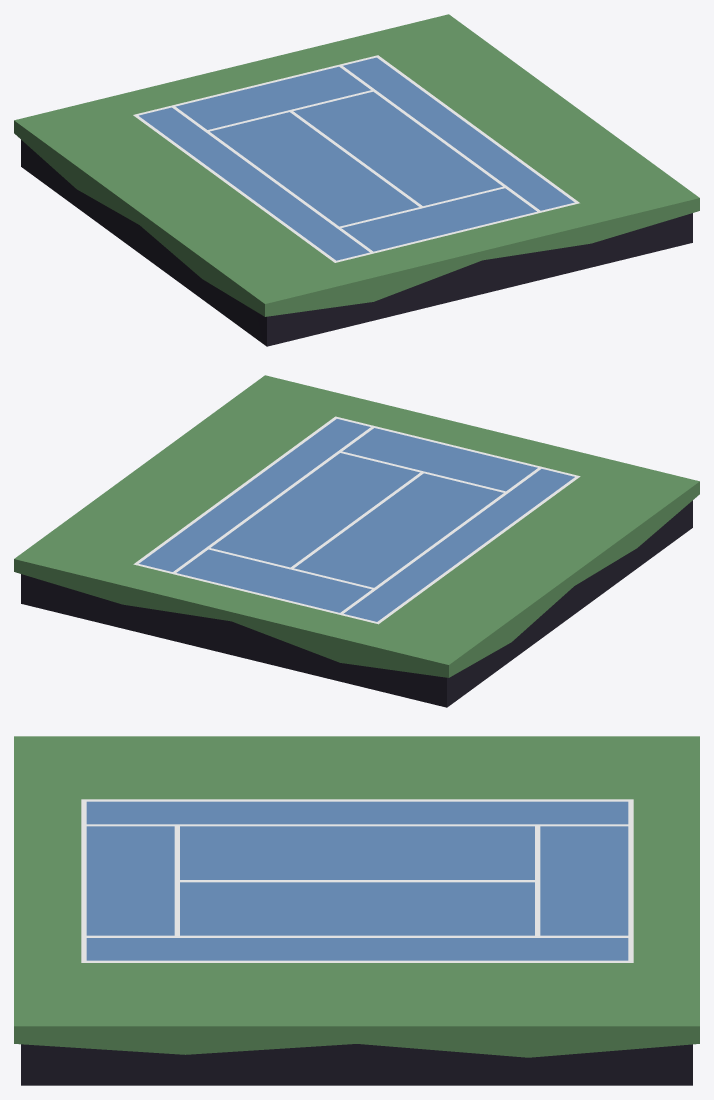
The picture shows the model from 3 angles, top to bottom: view 1: azimuth 30°, elevation 25°; view 2: azimuth 150°, elevation 25°; view 3: azimuth 270°, elevation 25°; orthographic projection. The views are drawn at different scales.
Visible parts, largest first — view 1: Base; view 2: Base; view 3: Base.
Part boxes in pixels (x1=…): Base: x1=14, y1=14, x2=699, y2=346; Base: x1=14, y1=375, x2=699, y2=707; Base: x1=14, y1=736, x2=699, y2=1085.
Size of the model in its own units: 10000 by 1000 by 10000.
